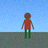person: (22, 13, 34, 38)
